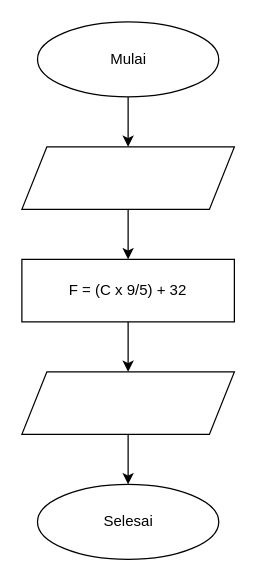
This 256x581 diagram has some shape labels left out. Each missing label, with the centre of its shape:
Input C (Celcius): point 127,177
Tampilkan F: point 127,402
